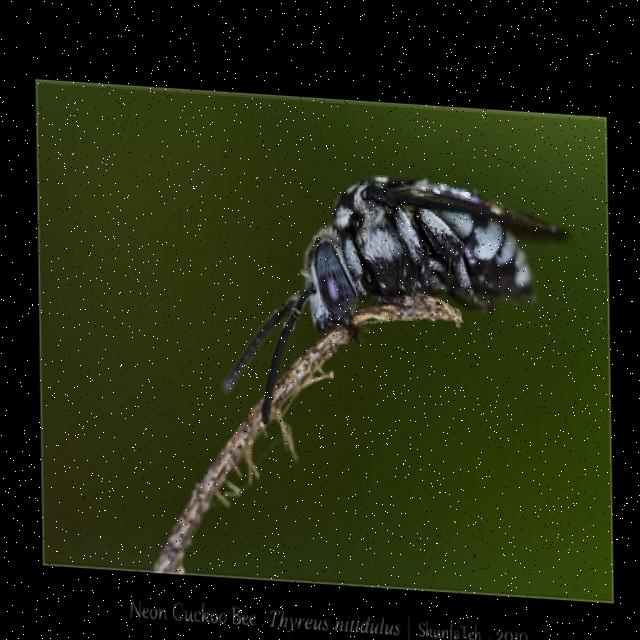Thyreus: (216, 147, 580, 449)
